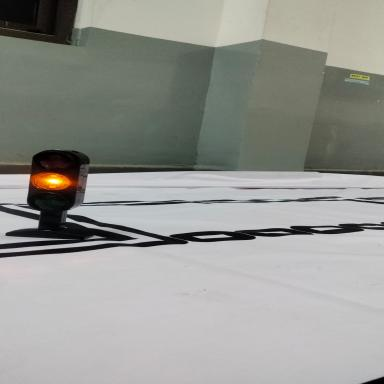yellow: (2, 136, 114, 245)
